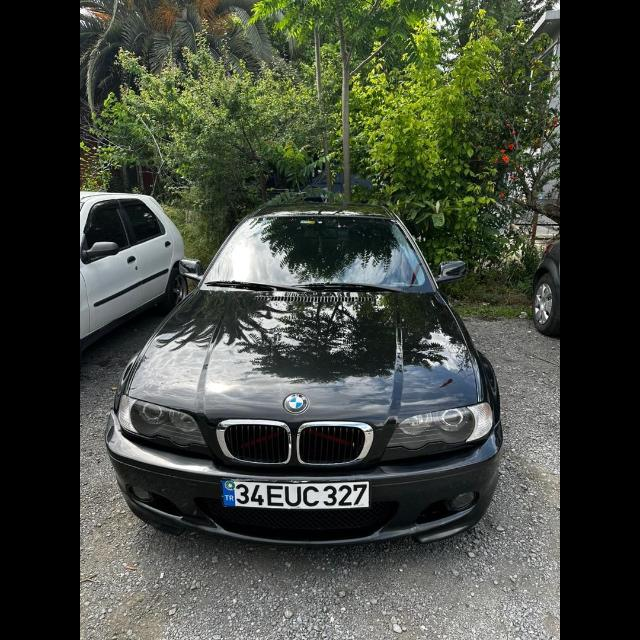Plaka: (224, 482, 370, 511)
